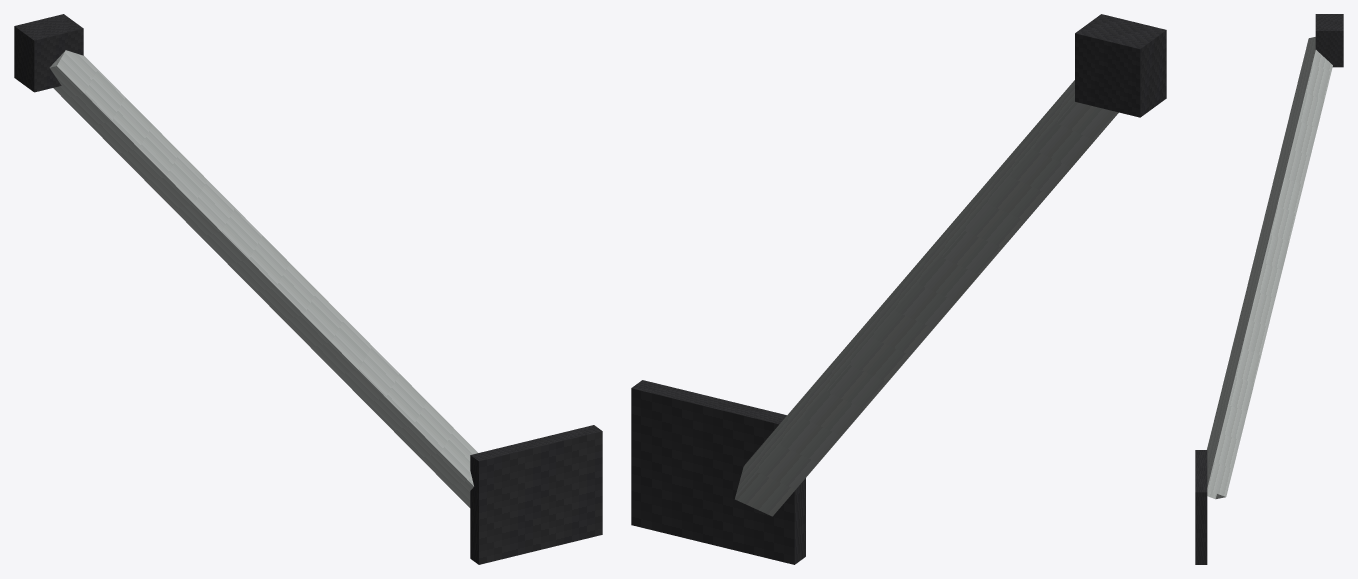
Rendered from brace_l.obj.
3 renders of one model, left to right at view 1: azimuth 30°, elevation 25°; view 2: azimuth 150°, elevation 25°; view 3: azimuth 270°, elevation 25°, orthographic. The views are drawn at different scales.
Parts seen in each view (by area): view 1: crossarm_brace_metal_l; view 2: crossarm_brace_metal_l; view 3: crossarm_brace_metal_l.
Boxes of the visible parts, left/top/right/bottom form: crossarm_brace_metal_l: left=14, top=14, right=602, bottom=564; crossarm_brace_metal_l: left=631, top=14, right=1166, bottom=564; crossarm_brace_metal_l: left=1195, top=14, right=1343, bottom=564.
Size of the model in its own units: 1.22 by 1.32 by 0.4625.
